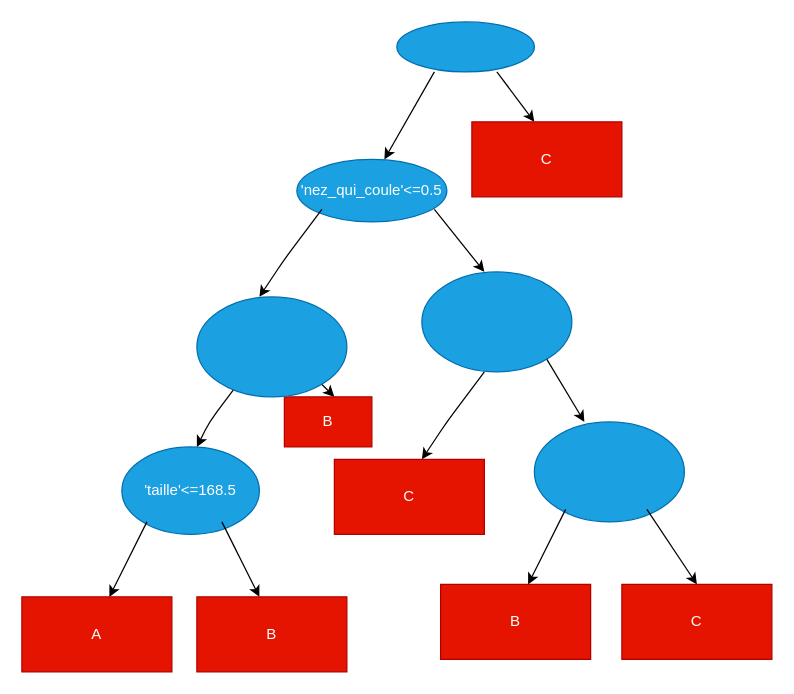
The diagram is 794 pixels wide and 694 high, and some of its shapes have lost their labels. The shapes that lost their labels are listed below. From the top down, each one's box as (x1, y1, x2, y2) in pixels, then its label:
(396, 21, 534, 72): 'diff__resp'<=0.5
(421, 271, 572, 372): 'poids'<=82.0
(196, 296, 347, 397): 'FIEVRE'<=O.5
(533, 421, 684, 522): 'poids'<=99.0
